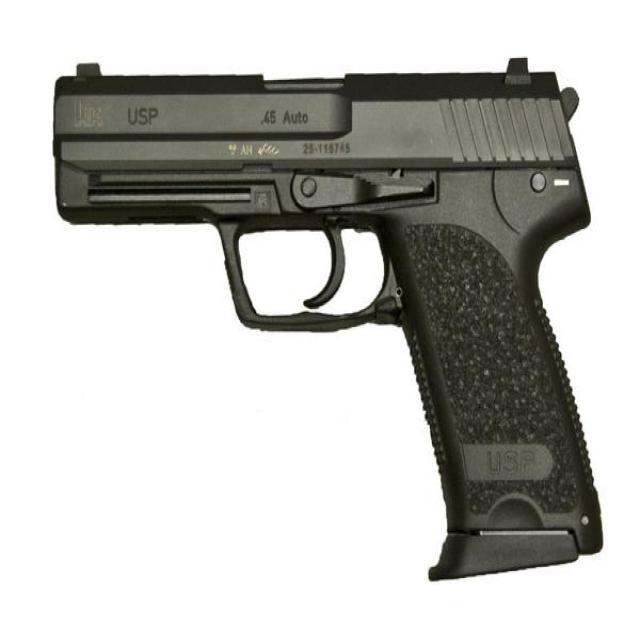Pistol: (46, 44, 624, 607)
